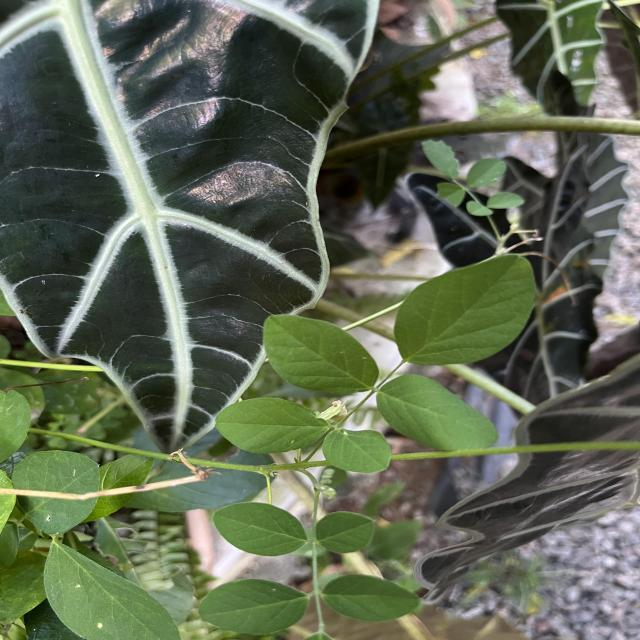Clitoria ternatea: (392, 253, 538, 367), (260, 312, 380, 395), (374, 373, 500, 451), (214, 396, 333, 456), (197, 576, 310, 636), (212, 500, 309, 558), (320, 572, 423, 622), (320, 426, 392, 475), (314, 510, 378, 554)
